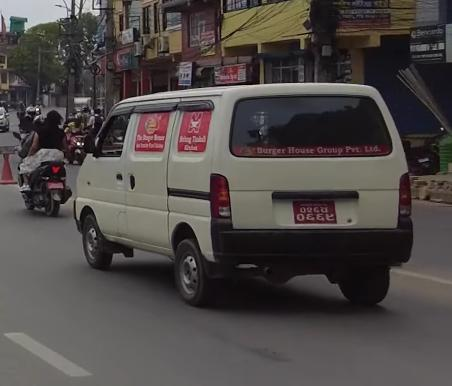scooter: (15, 132, 73, 219)
van: (66, 78, 420, 317)
